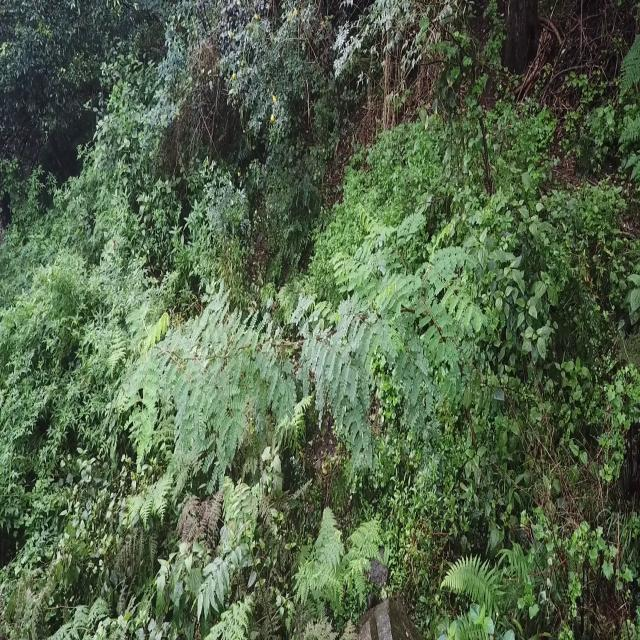Mysore-Thorn-Weed: (294, 217, 476, 440), (106, 280, 298, 474)
